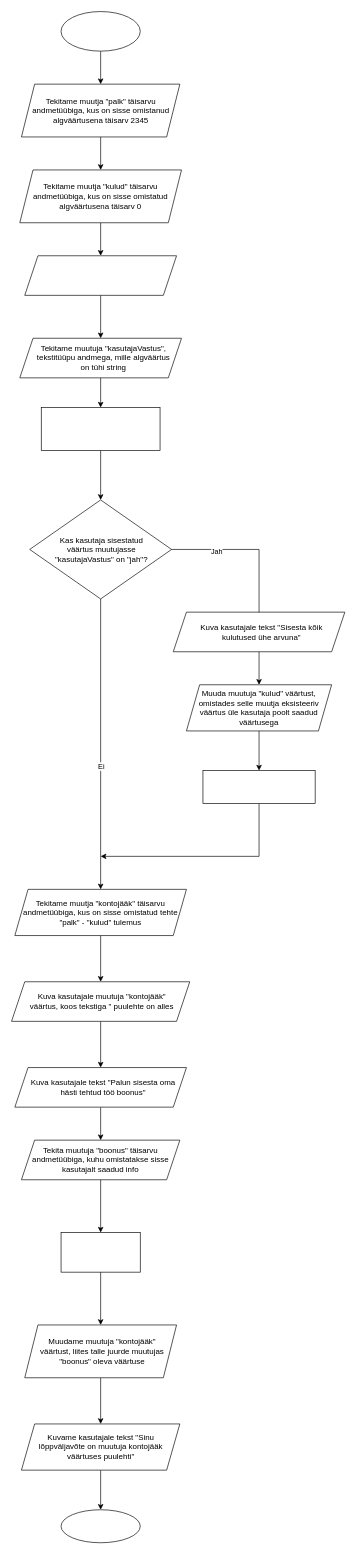
This 356x1554 diagram has some shape labels left out. The centre of each missing label's shape, as x and y in pixels:
Algus: the point at 100,31
Kuva kasutajale tekst "kas see kuu väljaminekuid/kulusid oli? jah/ei": the point at 100,275
Lõpp: the point at 100,1526
Oota kuni kasutaja sisestab oma andmeid: the point at 100,1252
Oota kuni kasutaja vastab ja muutujasse tekib midagi muud kui tühi string: the point at 100,428
Ootame kuni kasutaja sisestab uue väärtuse: the point at 258,787
